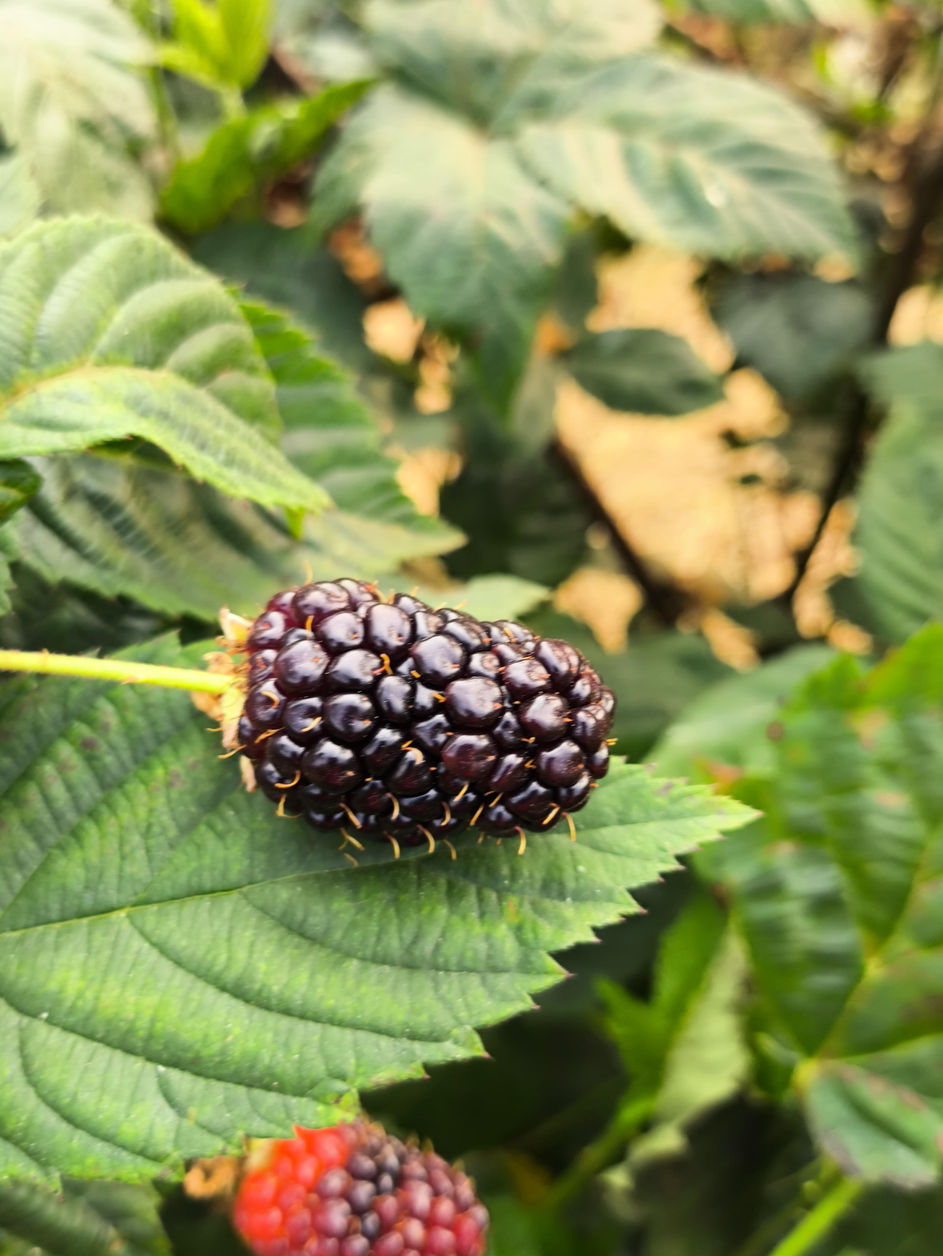maduro: (244, 584, 607, 826)
marron: (233, 1120, 489, 1256)
